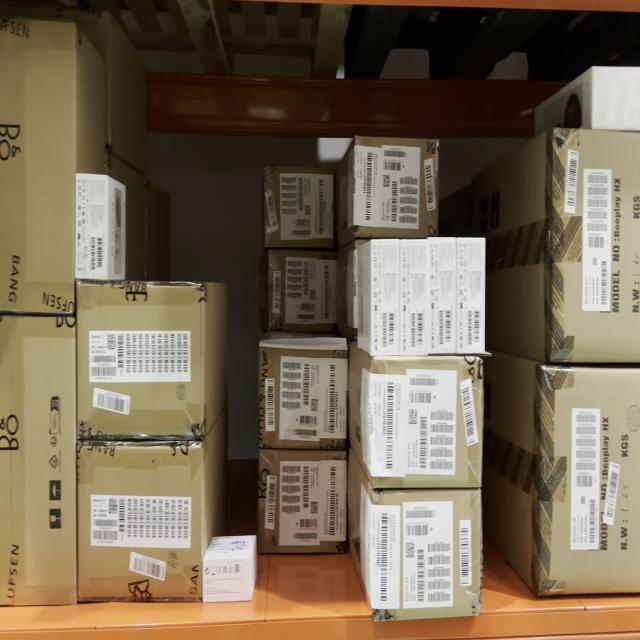box: (78, 287, 203, 439), (78, 447, 202, 598), (373, 359, 481, 485), (374, 491, 480, 614), (261, 342, 347, 446), (260, 453, 346, 550), (356, 139, 437, 235), (266, 168, 333, 246), (270, 252, 338, 326), (371, 241, 399, 353), (76, 176, 107, 277), (458, 240, 485, 352), (402, 241, 428, 354), (430, 240, 455, 354), (203, 560, 251, 600)
